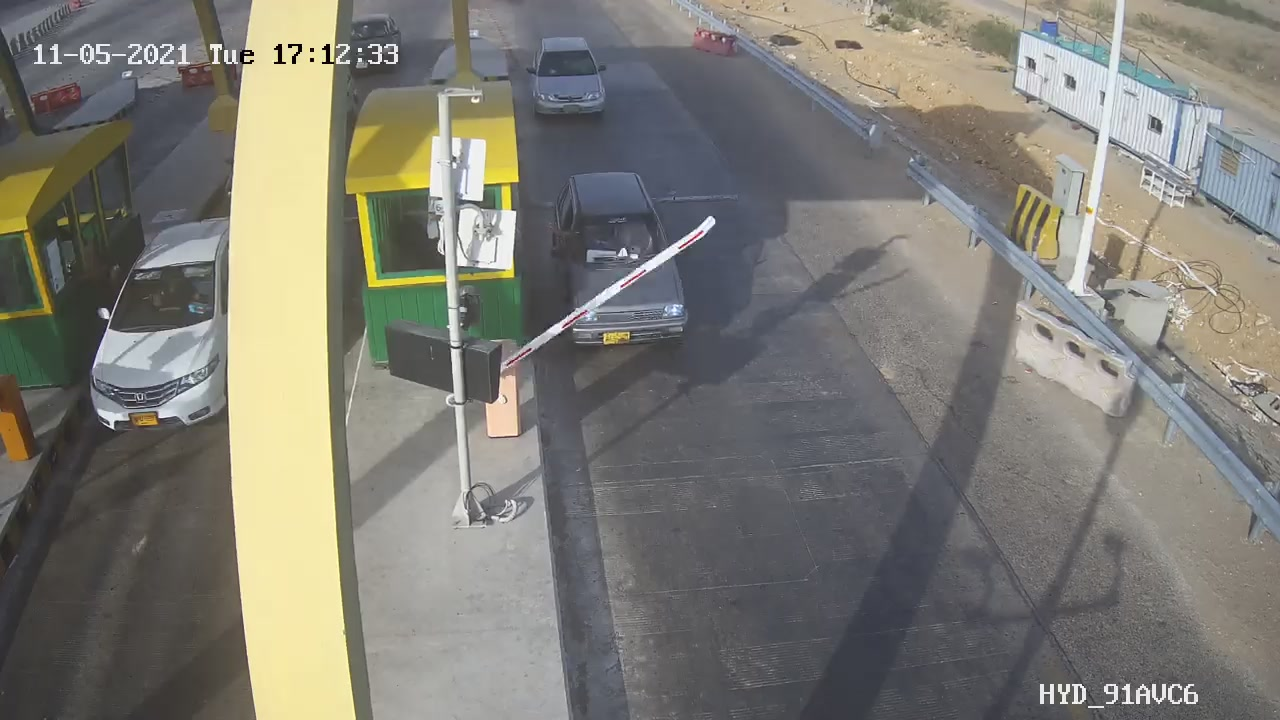F1: (531, 153, 716, 366), (513, 17, 624, 133)
